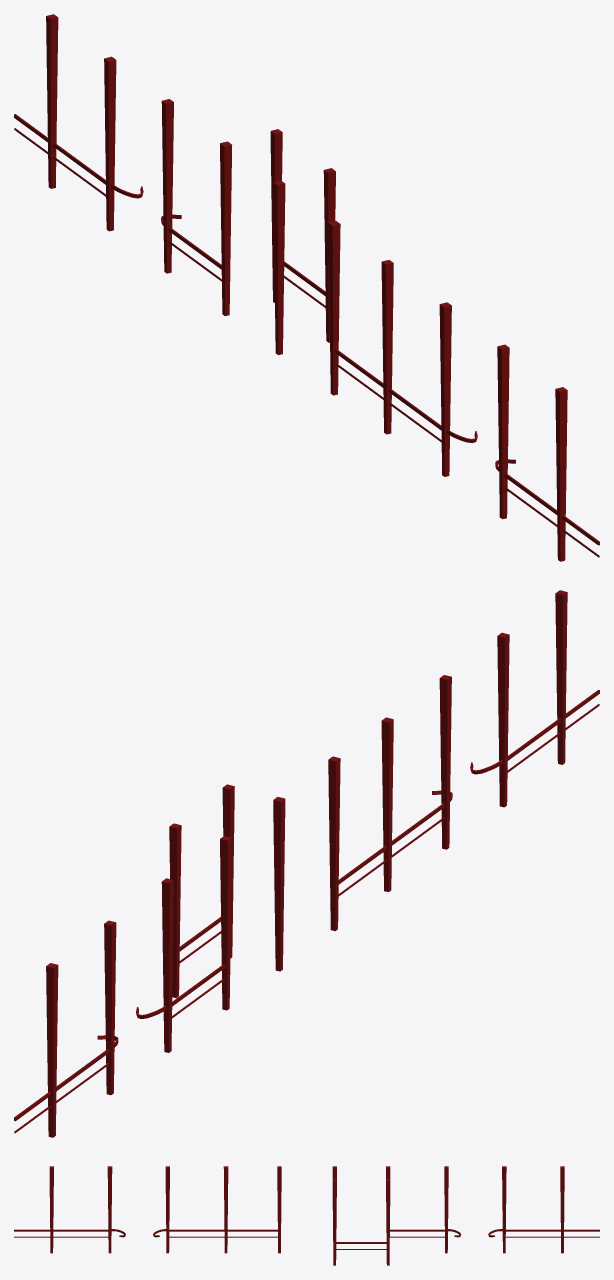
The model's file is SM_Catwalk_Bars_SW.fbx.
3 views of the same model, one above another, from view 1: azimuth 30°, elevation 25°; view 2: azimuth 150°, elevation 25°; view 3: azimuth 270°, elevation 25° (orthographic). The views are drawn at different scales.
Parts seen in each view (by area): view 1: SM_Catwalk_Bars_SW; view 2: SM_Catwalk_Bars_SW; view 3: SM_Catwalk_Bars_SW.
Boxes of the visible parts, bbox=[...] form: SM_Catwalk_Bars_SW: bbox=[14, 14, 599, 561]; SM_Catwalk_Bars_SW: bbox=[14, 590, 599, 1137]; SM_Catwalk_Bars_SW: bbox=[14, 1166, 599, 1265].
Bounding box in the file's own units: 7.14 × 19.95 × 124.
